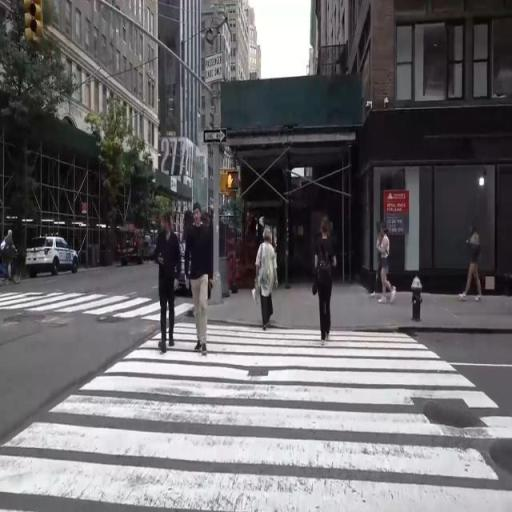person: (183, 192, 211, 359), (154, 213, 180, 363), (317, 220, 340, 358), (260, 227, 285, 337), (465, 220, 490, 312), (378, 224, 399, 309)
